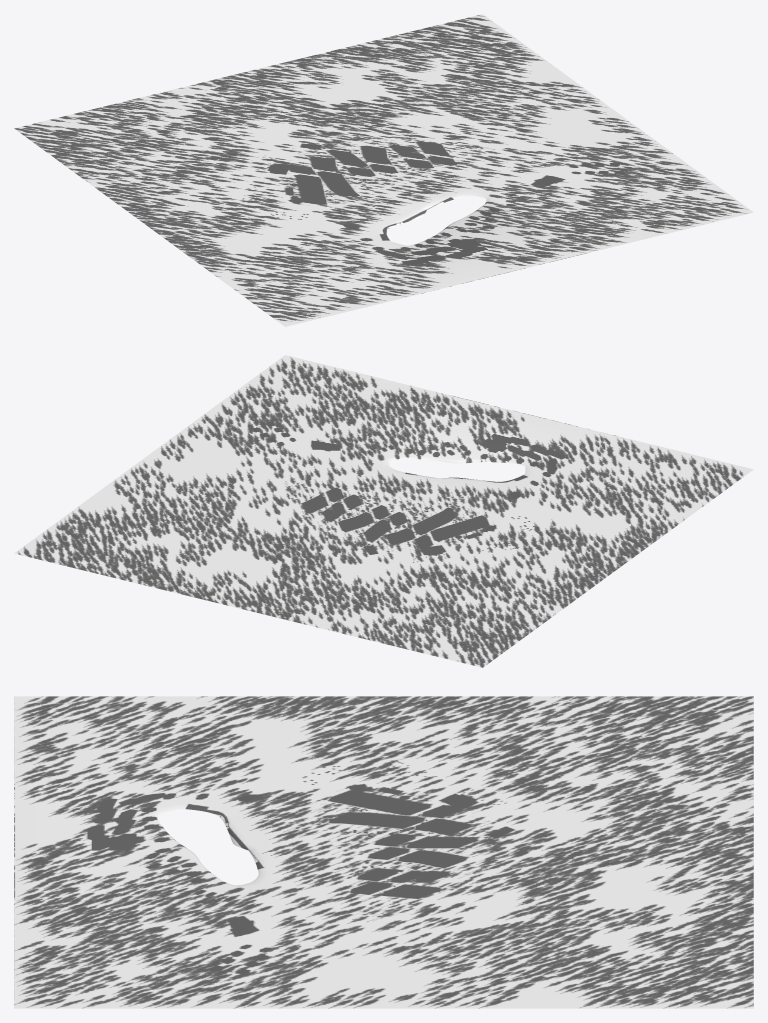
The model's file is land_shadow.obj.
3 renders of one model, top to bottom at view 1: azimuth 30°, elevation 25°; view 2: azimuth 150°, elevation 25°; view 3: azimuth 270°, elevation 25°, orthographic. The views are drawn at different scales.
Parts seen in each view (by area): view 1: grass_small; view 2: grass_small; view 3: grass_small.
Part boxes in pixels (left/top/right/bottom): grass_small: left=14, top=14, right=753, bottom=326; grass_small: left=14, top=355, right=753, bottom=667; grass_small: left=14, top=696, right=753, bottom=1008.
Size of the model in its own units: 59885 by 310 by 59988.
